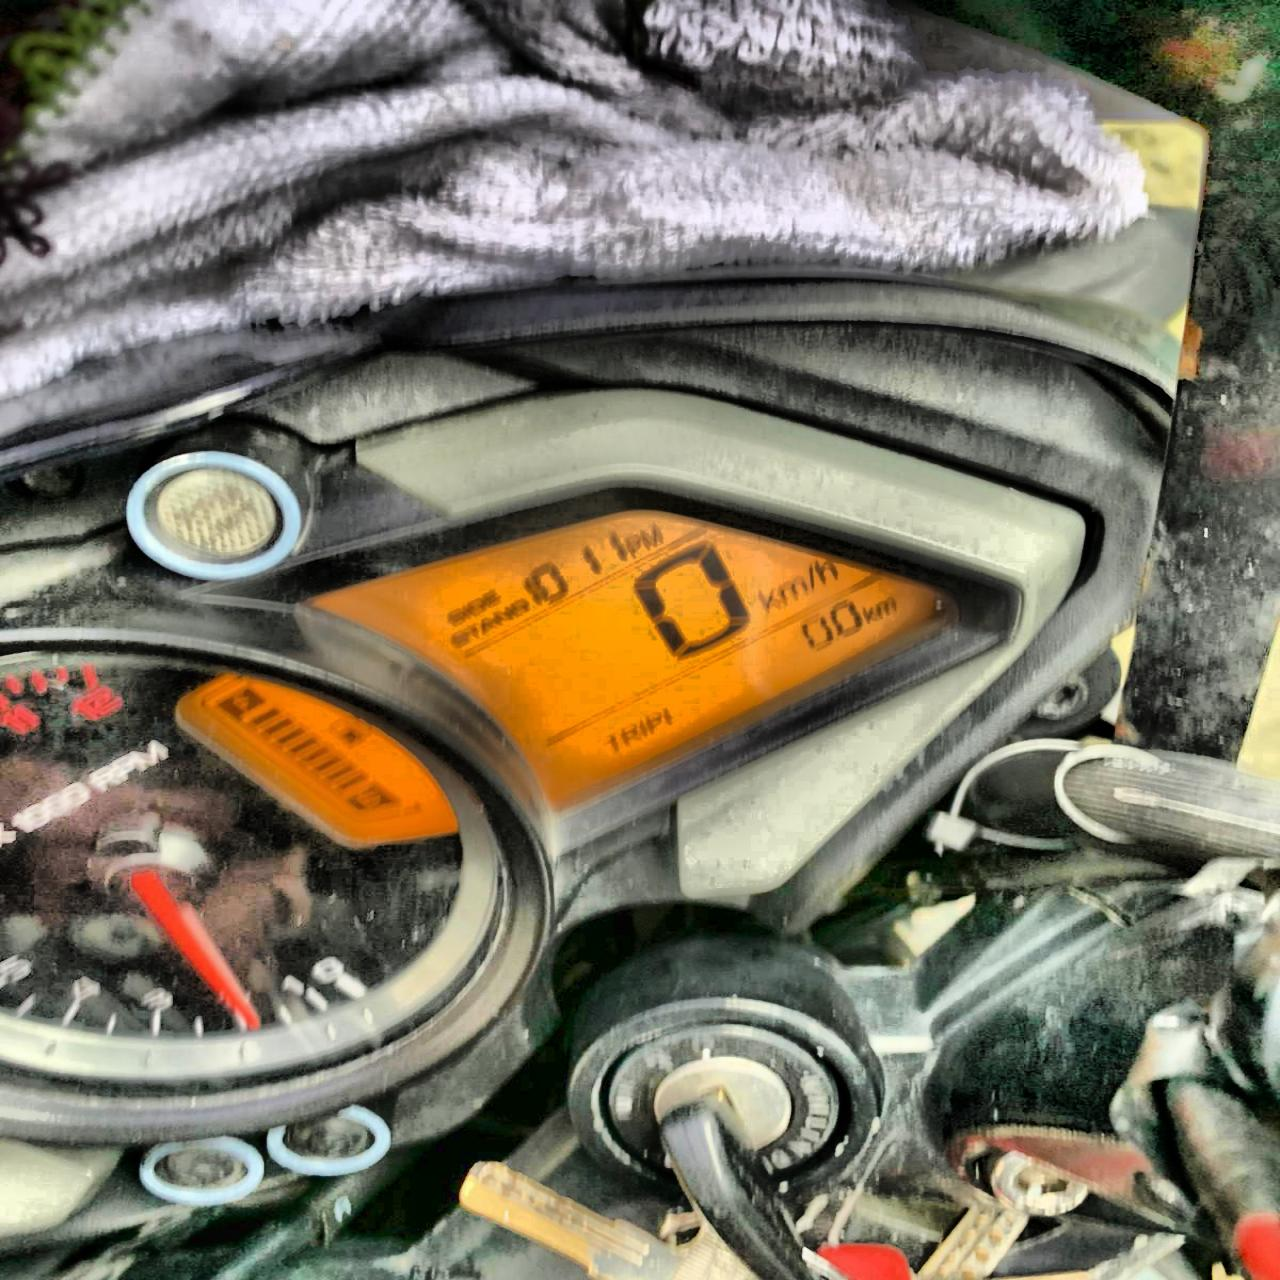0: (632, 543, 749, 661), (530, 563, 565, 601), (798, 614, 832, 652), (830, 600, 860, 638)
1: (580, 545, 599, 574), (608, 531, 626, 559), (523, 578, 538, 601), (661, 704, 674, 726)
X: (776, 576, 808, 605), (755, 586, 781, 613), (812, 558, 837, 585), (873, 595, 897, 620), (639, 524, 660, 549), (804, 563, 815, 592), (621, 729, 640, 744), (602, 736, 620, 751), (647, 715, 662, 731), (862, 607, 876, 625), (483, 590, 501, 602), (636, 720, 648, 737)
odometer: (171, 505, 965, 851)
